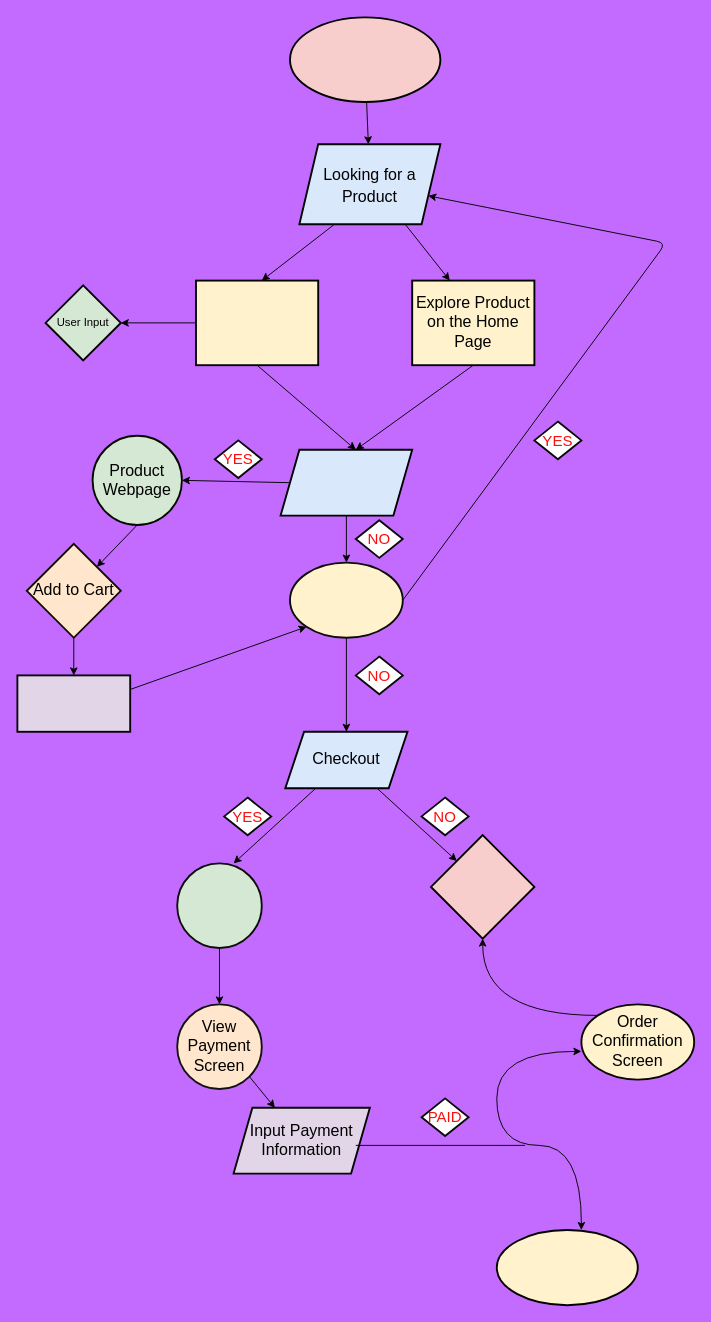
Image size: 711x1322. Some labels were removed from this diagram. Here are the shapes that lost their labels. From the top down, the box of each, then its label:
(289, 16, 441, 102): Start (User Enters Website)
(195, 279, 319, 366): Search for Product
(279, 448, 413, 516): View a Specific Item
(289, 561, 403, 638): Continue Shopping
(16, 674, 131, 732): Cart Confirmation
(176, 862, 262, 948): View Cart Screen
(430, 834, 535, 939): Leave Website
(495, 1229, 638, 1306): User Receive's a Confirmation Email
